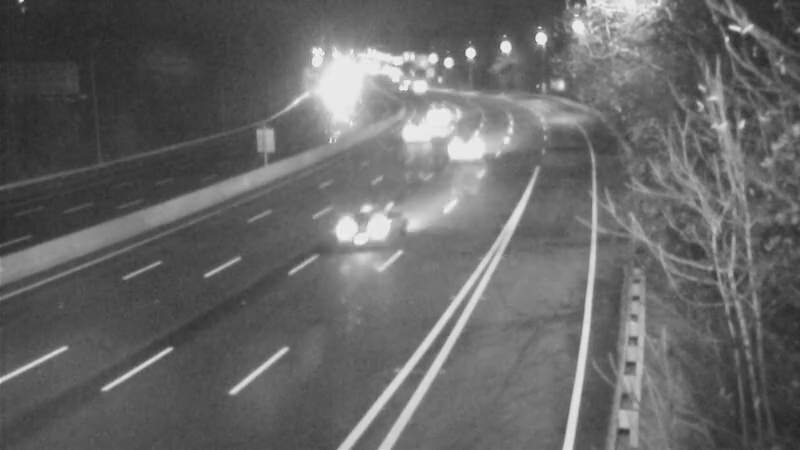vehicle: (328, 201, 408, 281), (396, 62, 446, 112), (406, 88, 456, 138), (399, 100, 449, 150), (441, 118, 491, 168)
